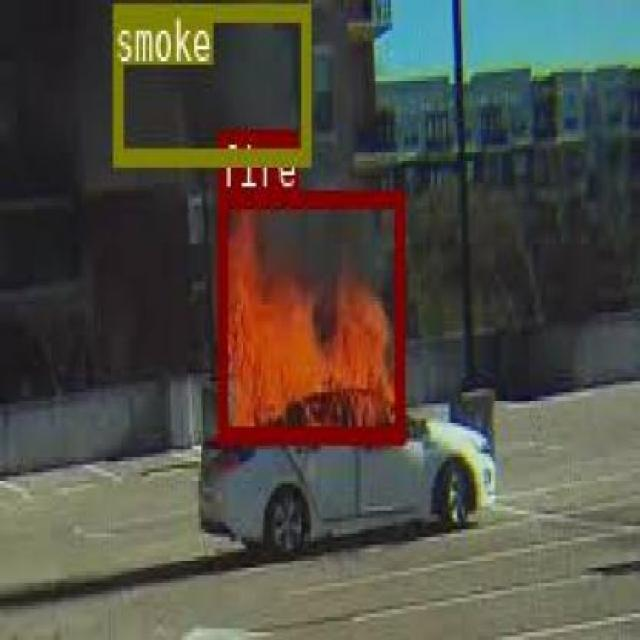Fire: (216, 188, 402, 438)
Smoke: (218, 29, 295, 129)
